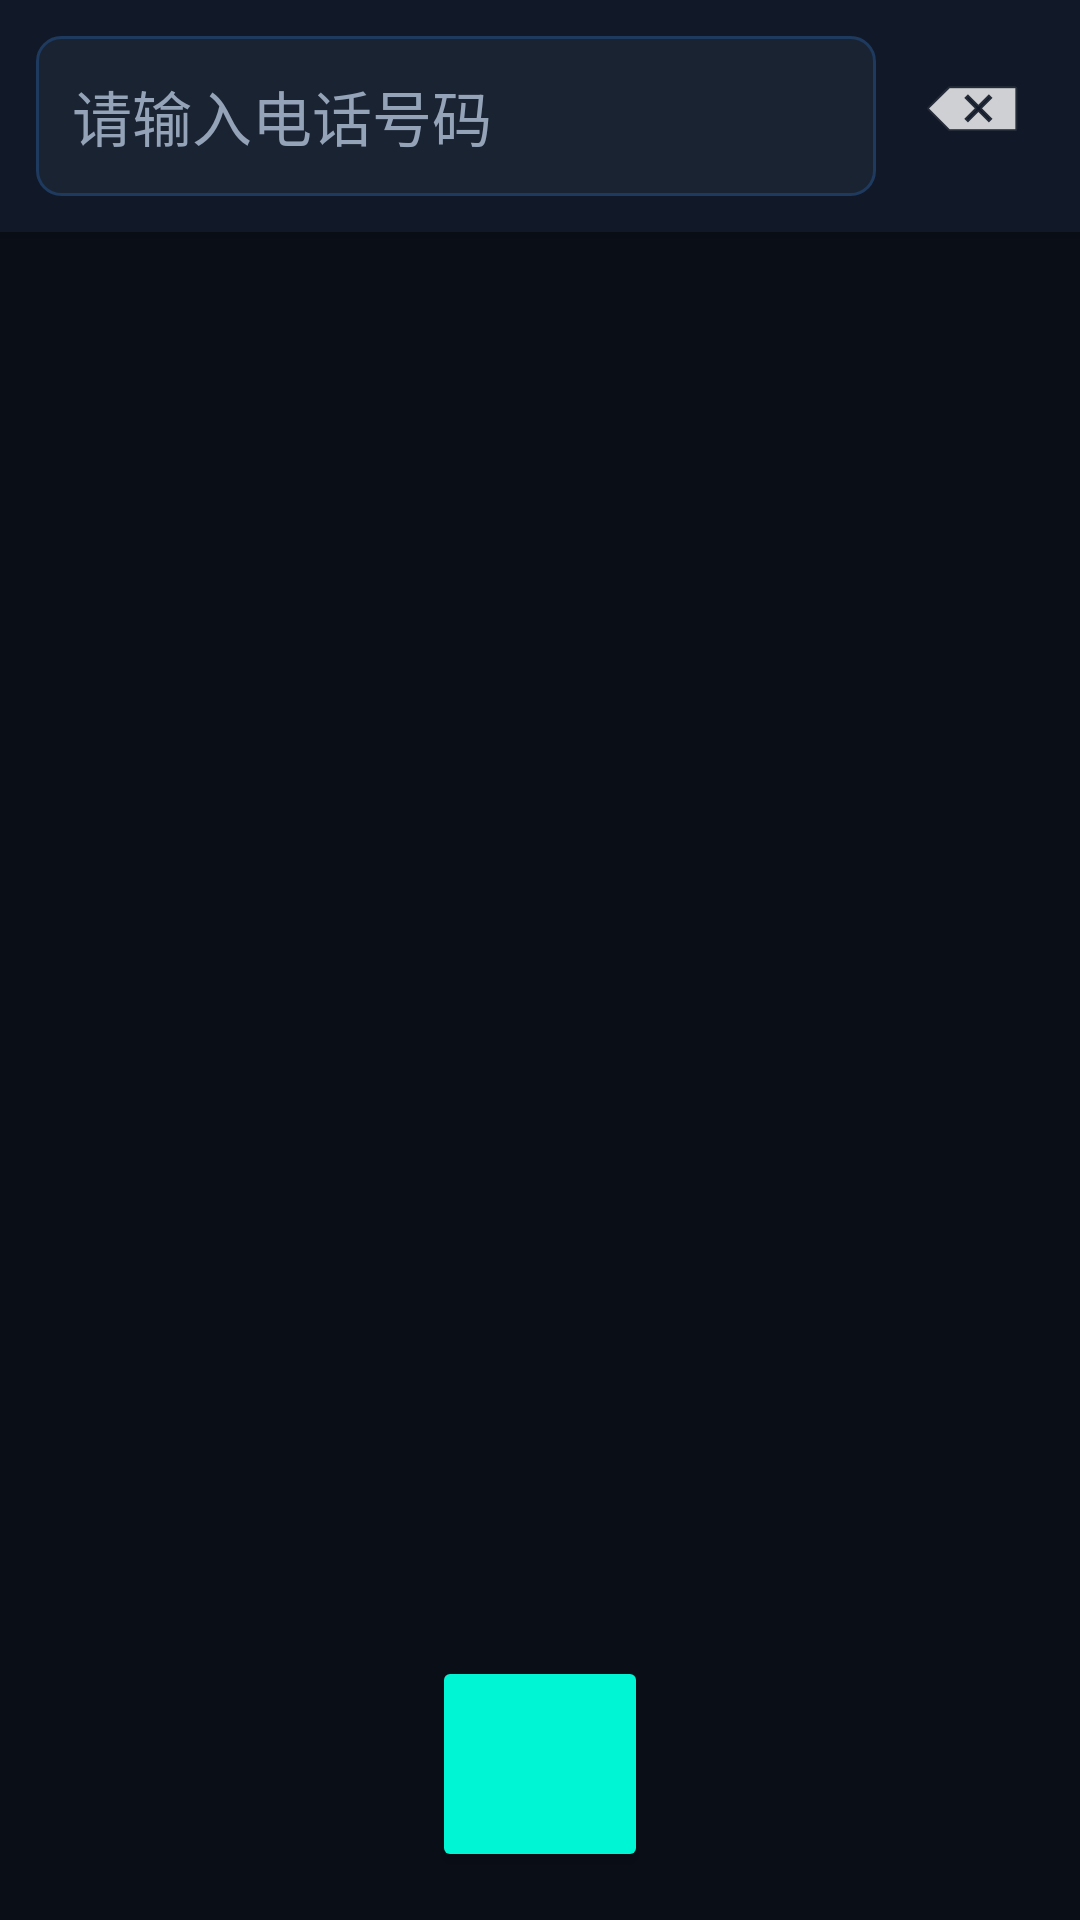

Point at icon controls on the screen. Image size 1080 × 1920, points as point (x, y).
删除: point (972, 109)
